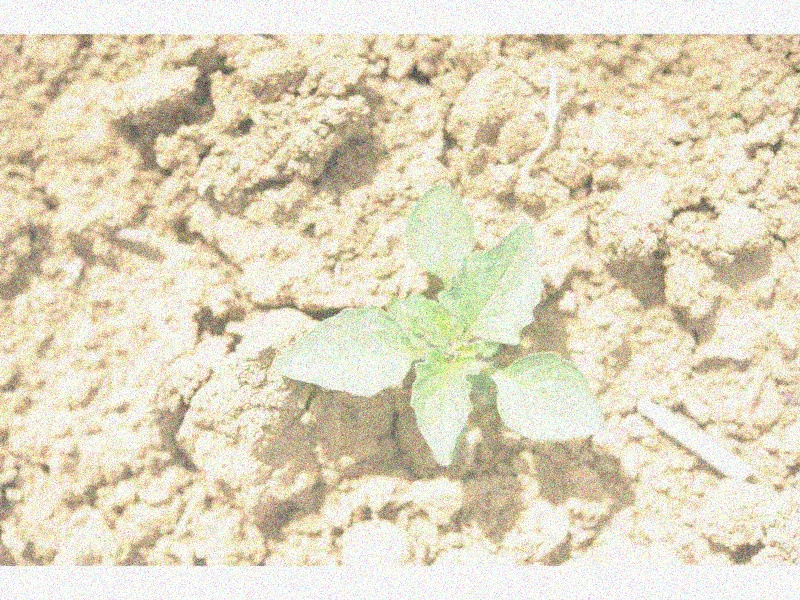nightshade: (277, 182, 604, 465)
